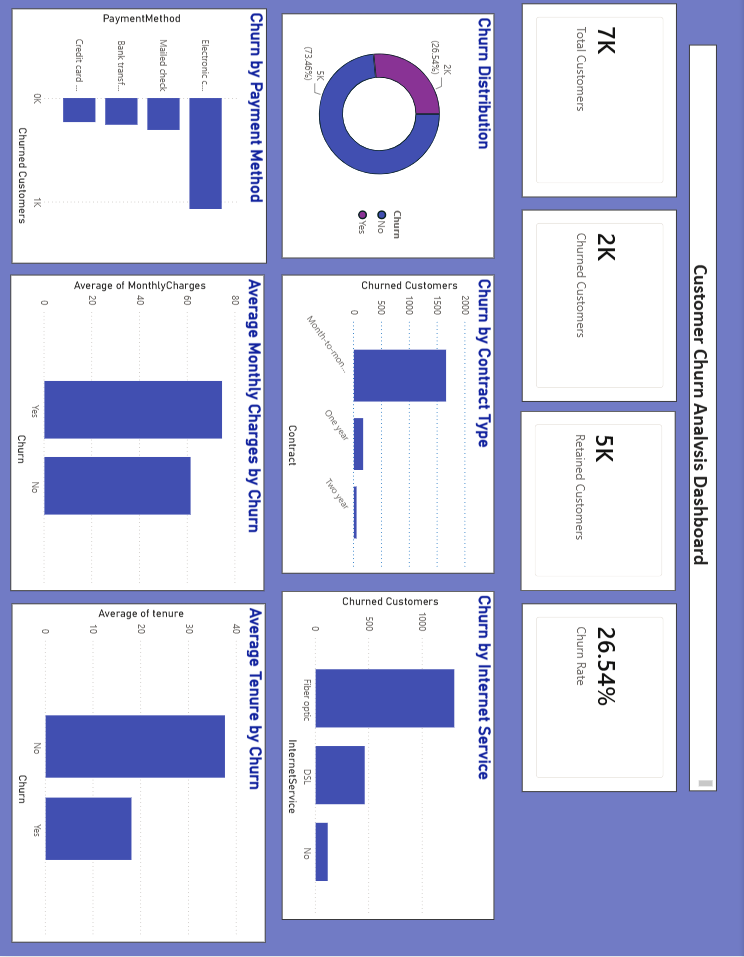

This screenshot's page, from the dashboard's own definition file:
{"tool":"powerbi","page":{"name":"Page 1","canvas":[1280,1000],"ordinal":0},"visuals":[{"type":"textbox","box":[65.3,41.9,995.3,36.9],"z":0},{"type":"cardVisual","fields":{"Data":["ChurnData.Total Customers"]},"box":[10.1,95.5,258,206.1],"z":1000},{"type":"cardVisual","fields":{"Data":["ChurnData.Churned Customers"]},"box":[284.9,95.5,256.4,206.1],"z":2000},{"type":"cardVisual","fields":{"Data":["ChurnData.Retained Customers"]},"box":[553,97.2,239.6,206.1],"z":3000},{"type":"cardVisual","fields":{"Data":["ChurnData.Churn Rate"]},"box":[809.3,95.5,251.3,206.1],"z":4000},{"type":"donutChart","title":"Churn Distribution","fields":{"Category":["ChurnData.Churn"],"Y":["ChurnData.Total Customers"]},"box":[23.3,338.3,326.7,283.3],"z":5000},{"type":"clusteredColumnChart","title":"Churn by Contract Type","fields":{"Category":["ChurnData.Contract"],"Y":["ChurnData.Churned Customers"]},"box":[371.7,338.3,398.3,283.3],"z":6000},{"type":"clusteredColumnChart","title":"Churn by Internet Service","fields":{"Category":["ChurnData.InternetService"],"Y":["ChurnData.Churned Customers"]},"box":[793.3,338.3,438.3,283.3],"z":7000},{"type":"clusteredBarChart","title":"Churn by Payment Method","fields":{"Category":["ChurnData.PaymentMethod"],"Y":["ChurnData.Churned Customers"]},"box":[16.7,641.7,340,340],"z":8000},{"type":"clusteredColumnChart","title":"Average Monthly Charges by Churn ","fields":{"Category":["ChurnData.Churn"],"Y":["Avg(ChurnData.MonthlyCharges)"]},"box":[371.7,645,421.7,338.3],"z":9000},{"type":"clusteredColumnChart","title":"Average Tenure by Churn","fields":{"Category":["ChurnData.Churn"],"Y":["Avg(ChurnData.tenure)"]},"box":[810,643.3,451.7,338.3],"z":10000}]}

Visuals, with their boxes on the page's 1280x1000 design canvas (x1, y1, x2, y2). These are canvas units, not pixel positions in the 744x957 screenshot, which may show the page scaled, cropped or inside an application window:
textbox: <box>65,42,1061,79</box>
cardVisual - ChurnData.Total Customers: <box>10,96,268,302</box>
cardVisual - ChurnData.Churned Customers: <box>285,96,541,302</box>
cardVisual - ChurnData.Retained Customers: <box>553,97,793,303</box>
cardVisual - ChurnData.Churn Rate: <box>809,96,1061,302</box>
"Churn Distribution" donutChart: <box>23,338,350,622</box>
"Churn by Contract Type" clusteredColumnChart: <box>372,338,770,622</box>
"Churn by Internet Service" clusteredColumnChart: <box>793,338,1232,622</box>
"Churn by Payment Method" clusteredBarChart: <box>17,642,357,982</box>
"Average Monthly Charges by Churn " clusteredColumnChart: <box>372,645,793,983</box>
"Average Tenure by Churn" clusteredColumnChart: <box>810,643,1262,982</box>
